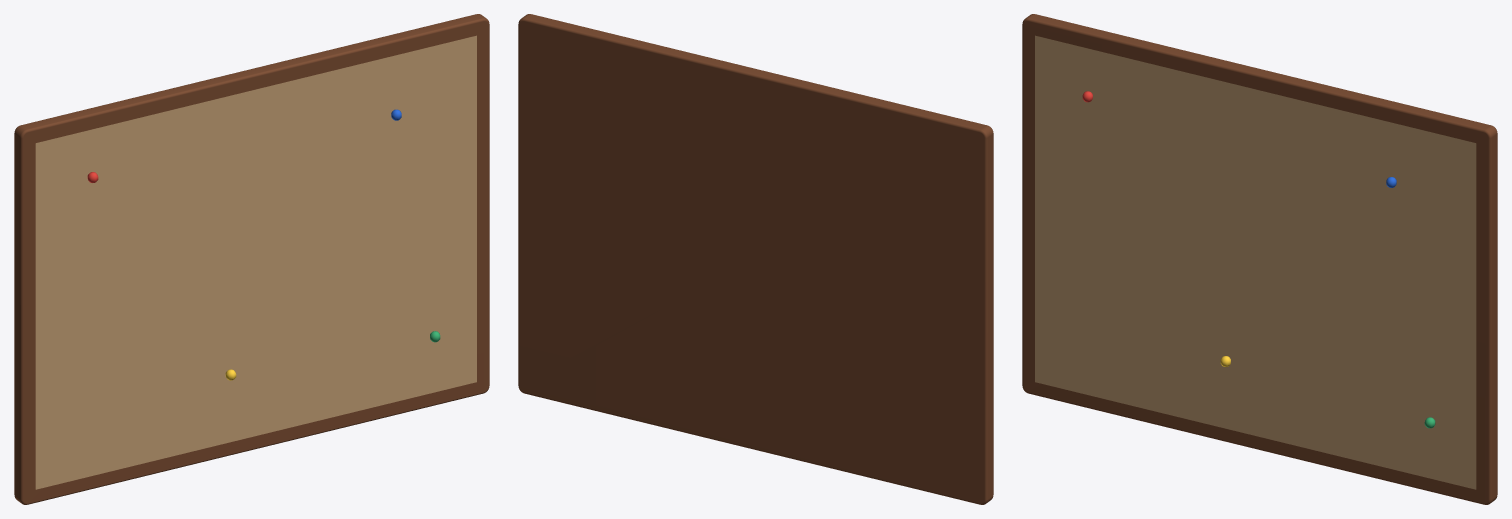
File: RmCorkBoard.fbx
3 views of the same model, side by side, from view 1: azimuth 30°, elevation 25°; view 2: azimuth 150°, elevation 25°; view 3: azimuth 330°, elevation 25° (orthographic).
Parts seen in each view (by area): view 1: CorkSurface, RmCorkBoardBody; view 2: RmCorkBoardBody; view 3: CorkSurface, RmCorkBoardBody.
Boxes of the visible parts, box(x1,y1,x2,y2) form: CorkSurface: box(35, 35, 476, 489); RmCorkBoardBody: box(14, 14, 489, 504); RmCorkBoardBody: box(518, 14, 993, 504); CorkSurface: box(1035, 35, 1476, 489); RmCorkBoardBody: box(1022, 14, 1497, 504).
Bounding box in the file's own units: 0.85 × 0.65 × 0.0416.
